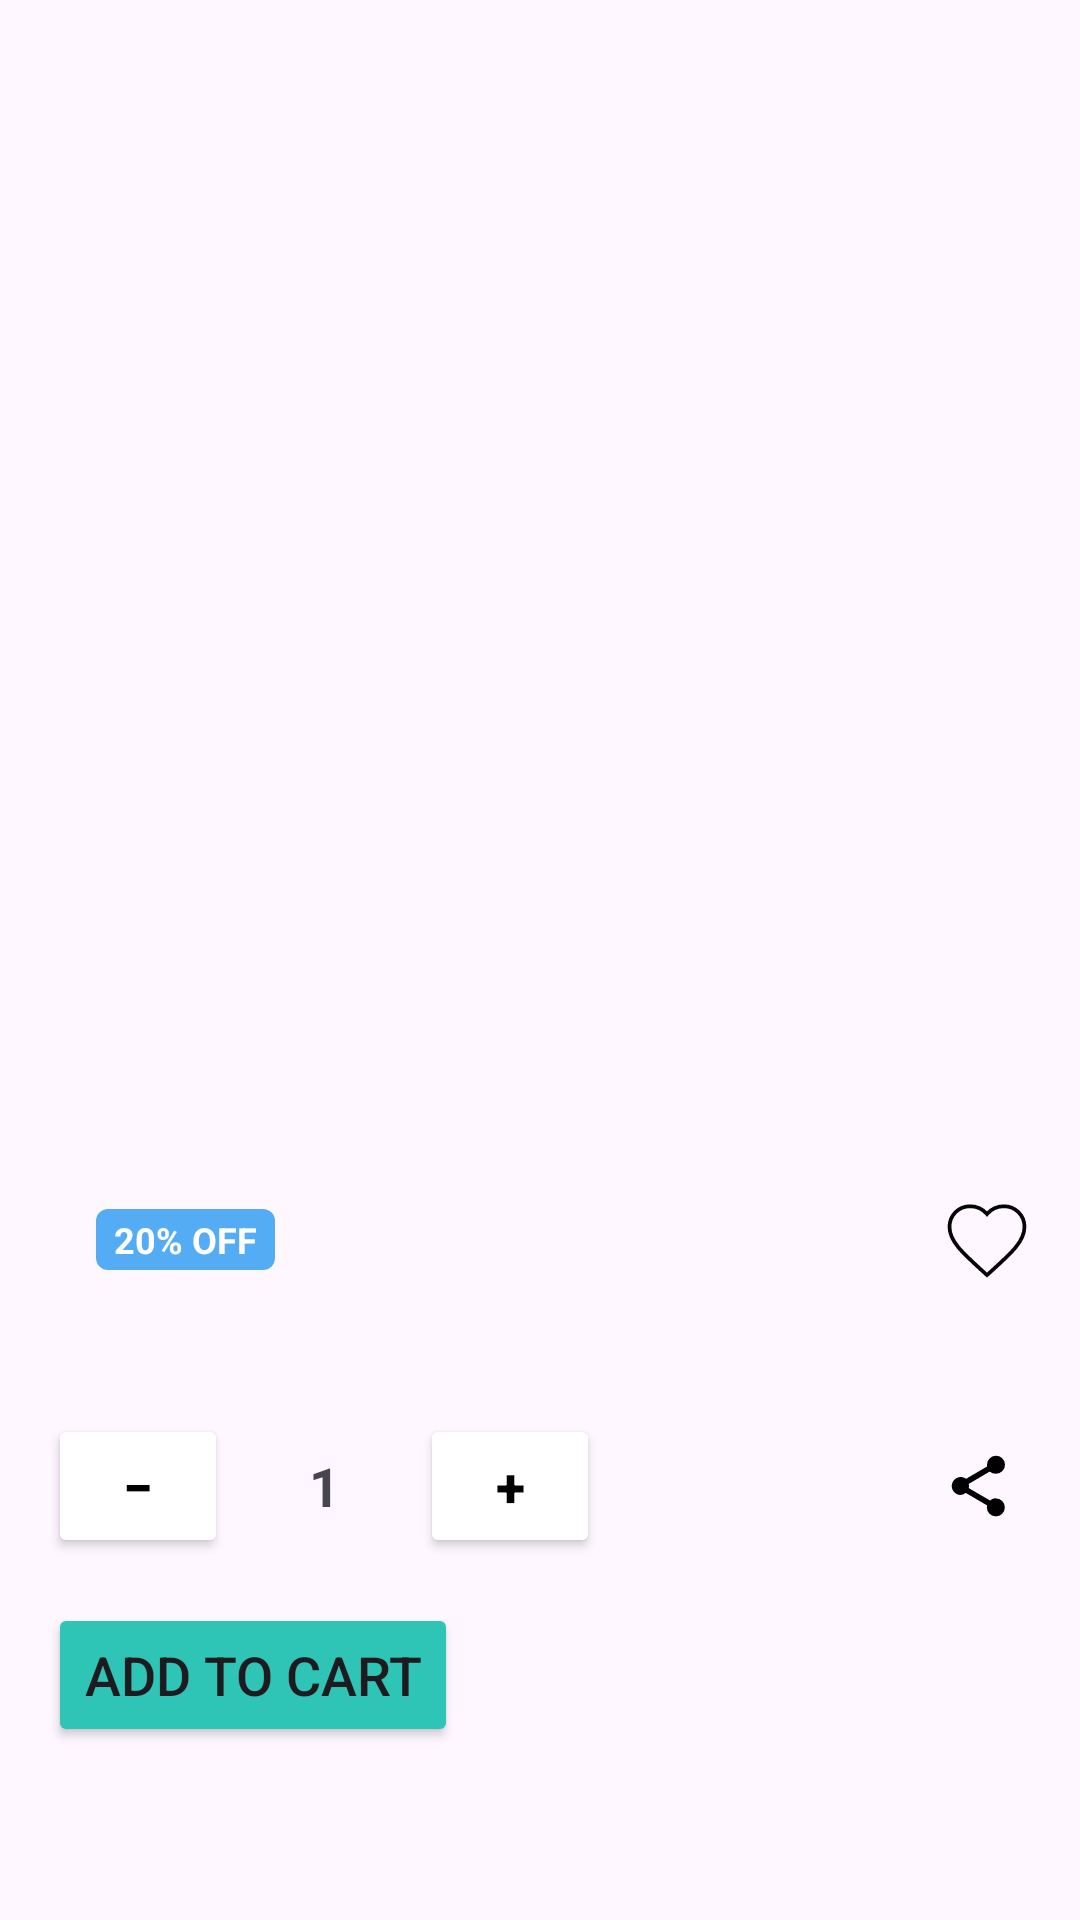

Icons on this 1080x1920 Android screen, each with its box as (x1, y1, x2, y2):
heart: (947, 1204, 1027, 1278)
Share: (951, 1455, 1005, 1517)
